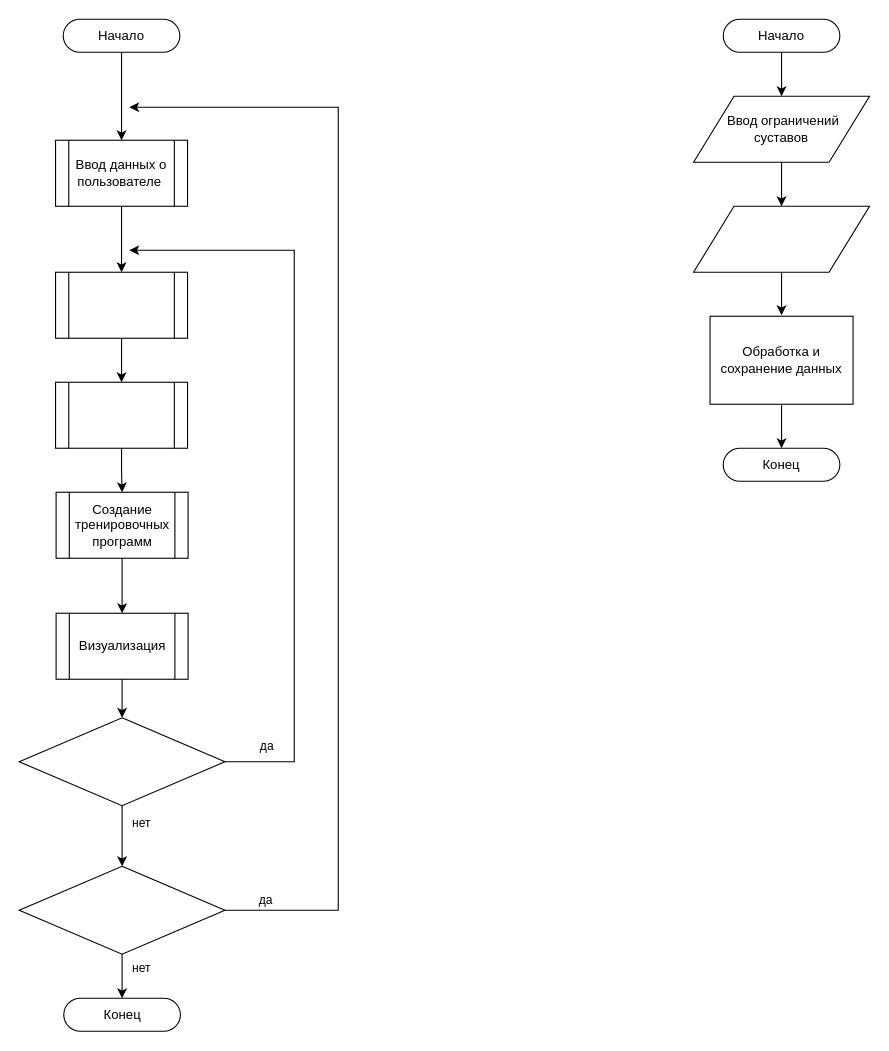
Some shapes in this 889 by 1051 pixel diagram are drawn without their labels. The shapes that lost their labels are listed below. From the top down, each one's centre as x and y in pixels, then its label:
At point (781, 238): "Ввод длин конечностей".
At point (121, 304): "Управление и настройка тренировки".
At point (121, 414): "Моделирование движений".
At point (121, 761): "Составление новой тренировки".
At point (121, 909): "Изменение данных пользователя".
